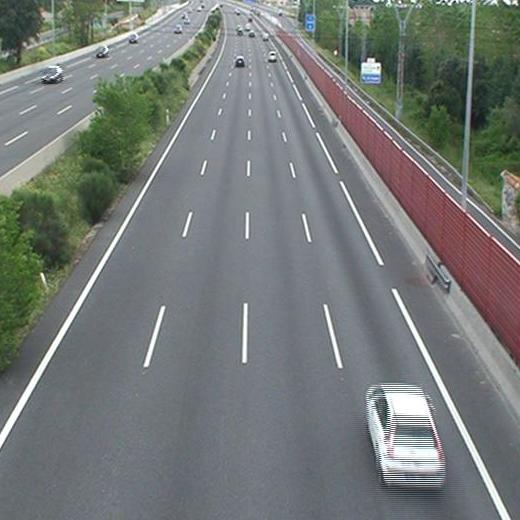car: (366, 386, 445, 488), (267, 52, 276, 61), (235, 57, 243, 66)
